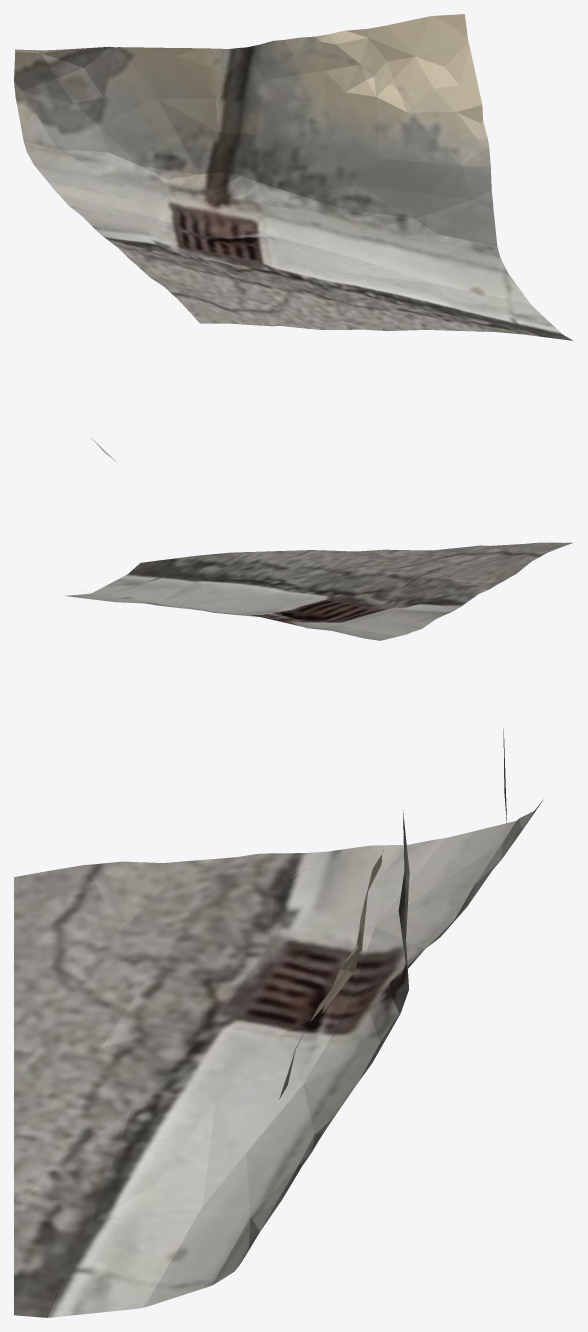
The picture shows the model from 3 angles, top to bottom: view 1: azimuth 30°, elevation 25°; view 2: azimuth 150°, elevation 25°; view 3: azimuth 270°, elevation 25°; orthographic projection. The views are drawn at different scales.
Size of the model in its own units: 1.67 by 1.06 by 1.44.
Materials: 3 (3 with a texture image).
